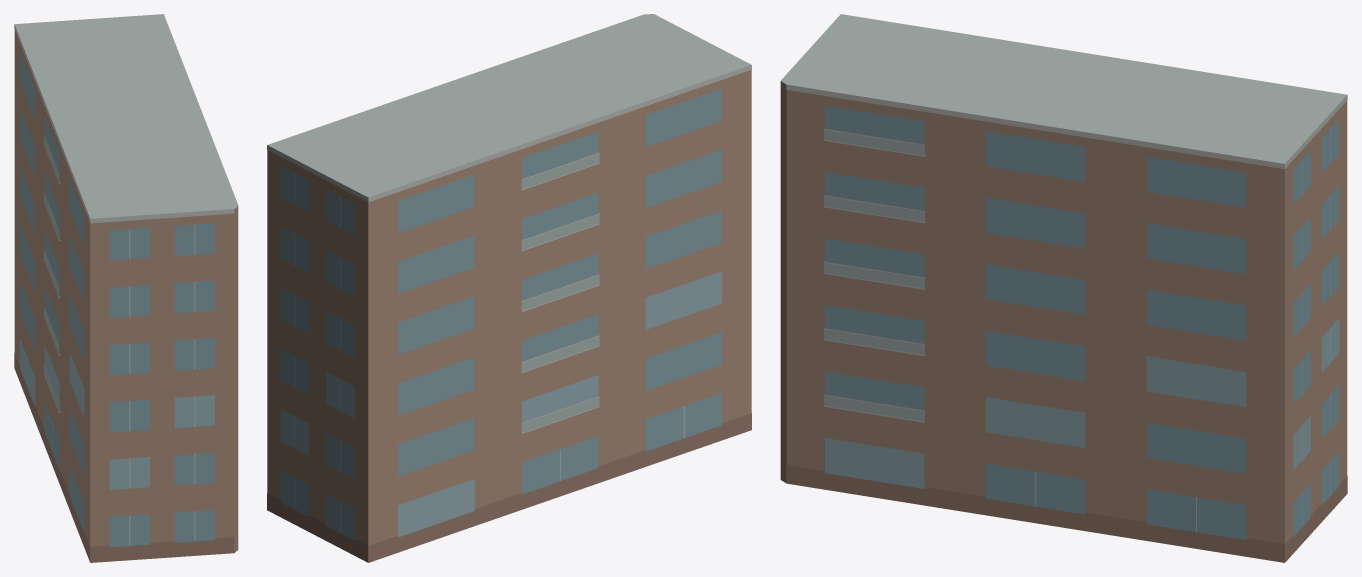
The model's file is survey-upis-32552836.glb.
3 renders of one model, left to right at view 1: azimuth 30°, elevation 25°; view 2: azimuth 150°, elevation 25°; view 3: azimuth 270°, elevation 25°, orthographic. The views are drawn at different scales.
Visible parts, largest first — view 1: survey-upis-32552836.tmp; view 2: survey-upis-32552836.tmp; view 3: survey-upis-32552836.tmp.
Boxes of the visible parts, x1,y1,x2,y2 form: survey-upis-32552836.tmp: (14, 14, 238, 562); survey-upis-32552836.tmp: (267, 14, 751, 562); survey-upis-32552836.tmp: (780, 14, 1347, 562).
Bounding box in the file's own units: 14.92 × 18.5 × 23.84.
